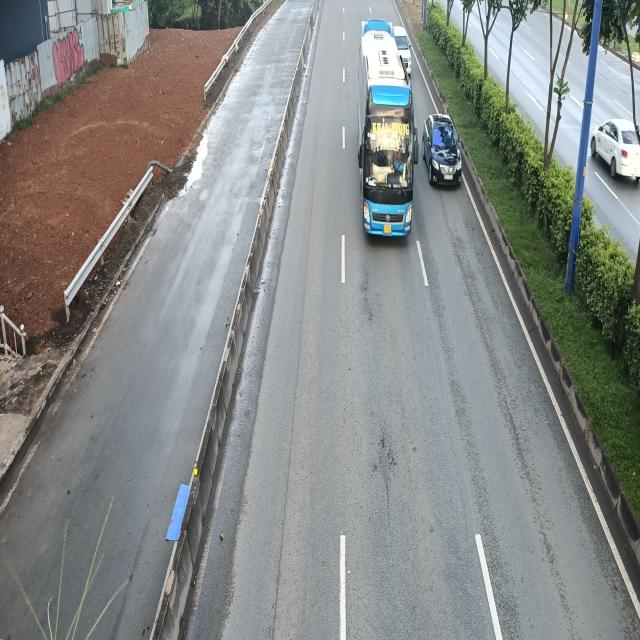car: (421, 114, 463, 189)
coach: (357, 21, 417, 242)
